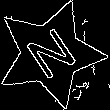N_SE: (18, 22, 82, 86)
